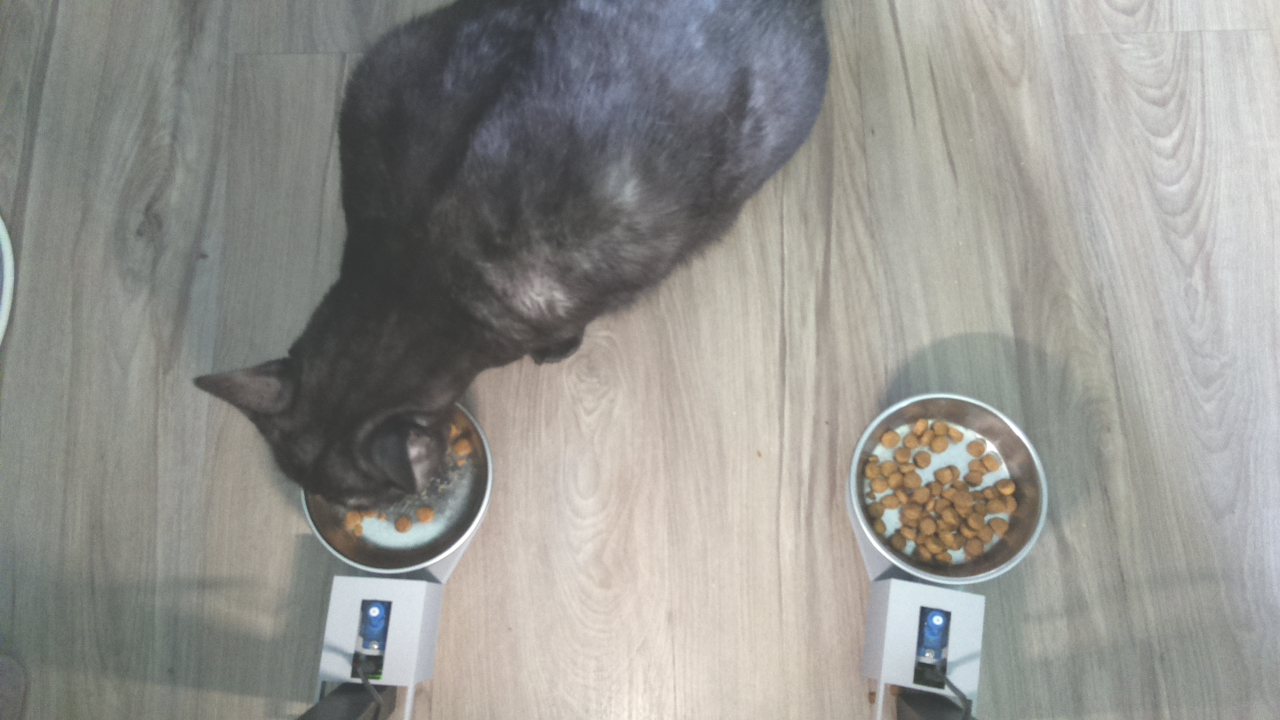open_bowl: (848, 390, 1057, 585)
saki_eating: (185, 253, 494, 542)
